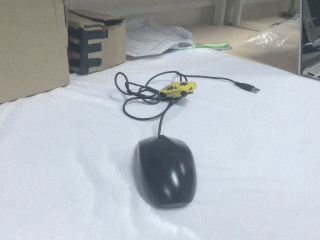box: (1, 1, 71, 107), (66, 4, 128, 76)
mouse: (133, 134, 197, 210)
toy_car: (156, 77, 199, 99)
